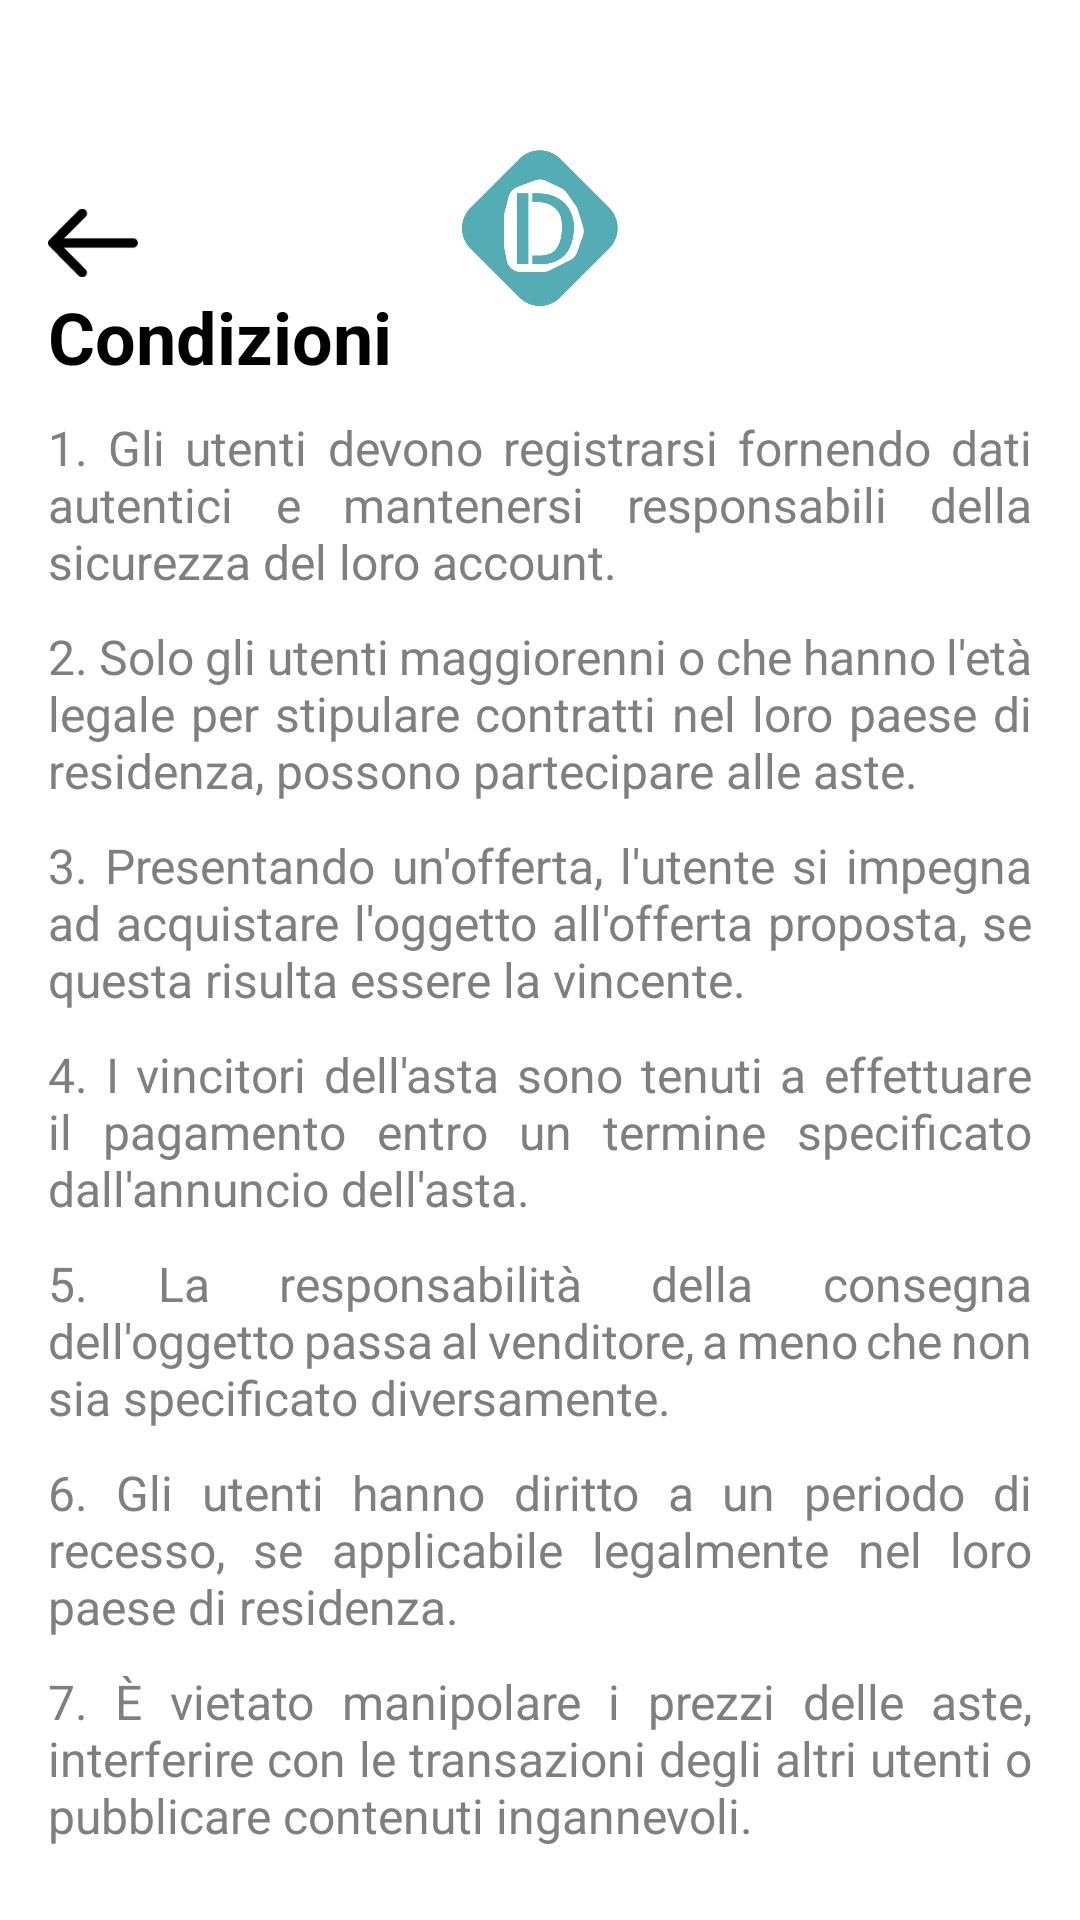

Where to tap for icons on this 1080px x 1920px app screen, as [x,y]:
freccia: [93,243]
